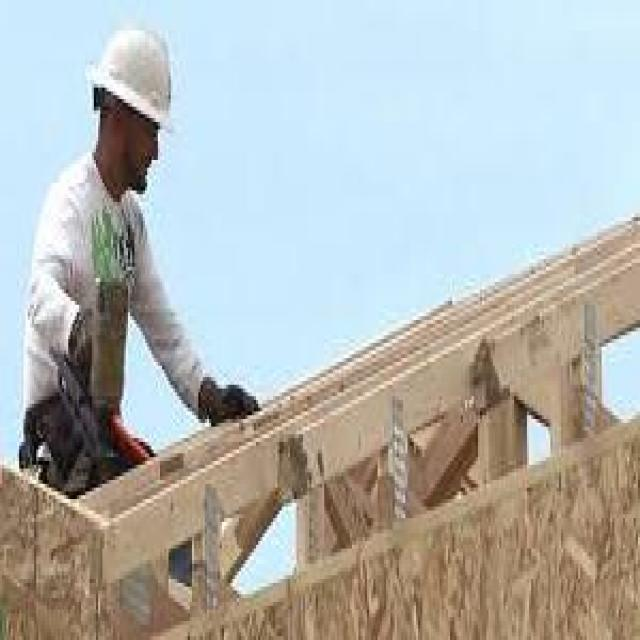Safety-Helmet: (84, 15, 182, 137)
